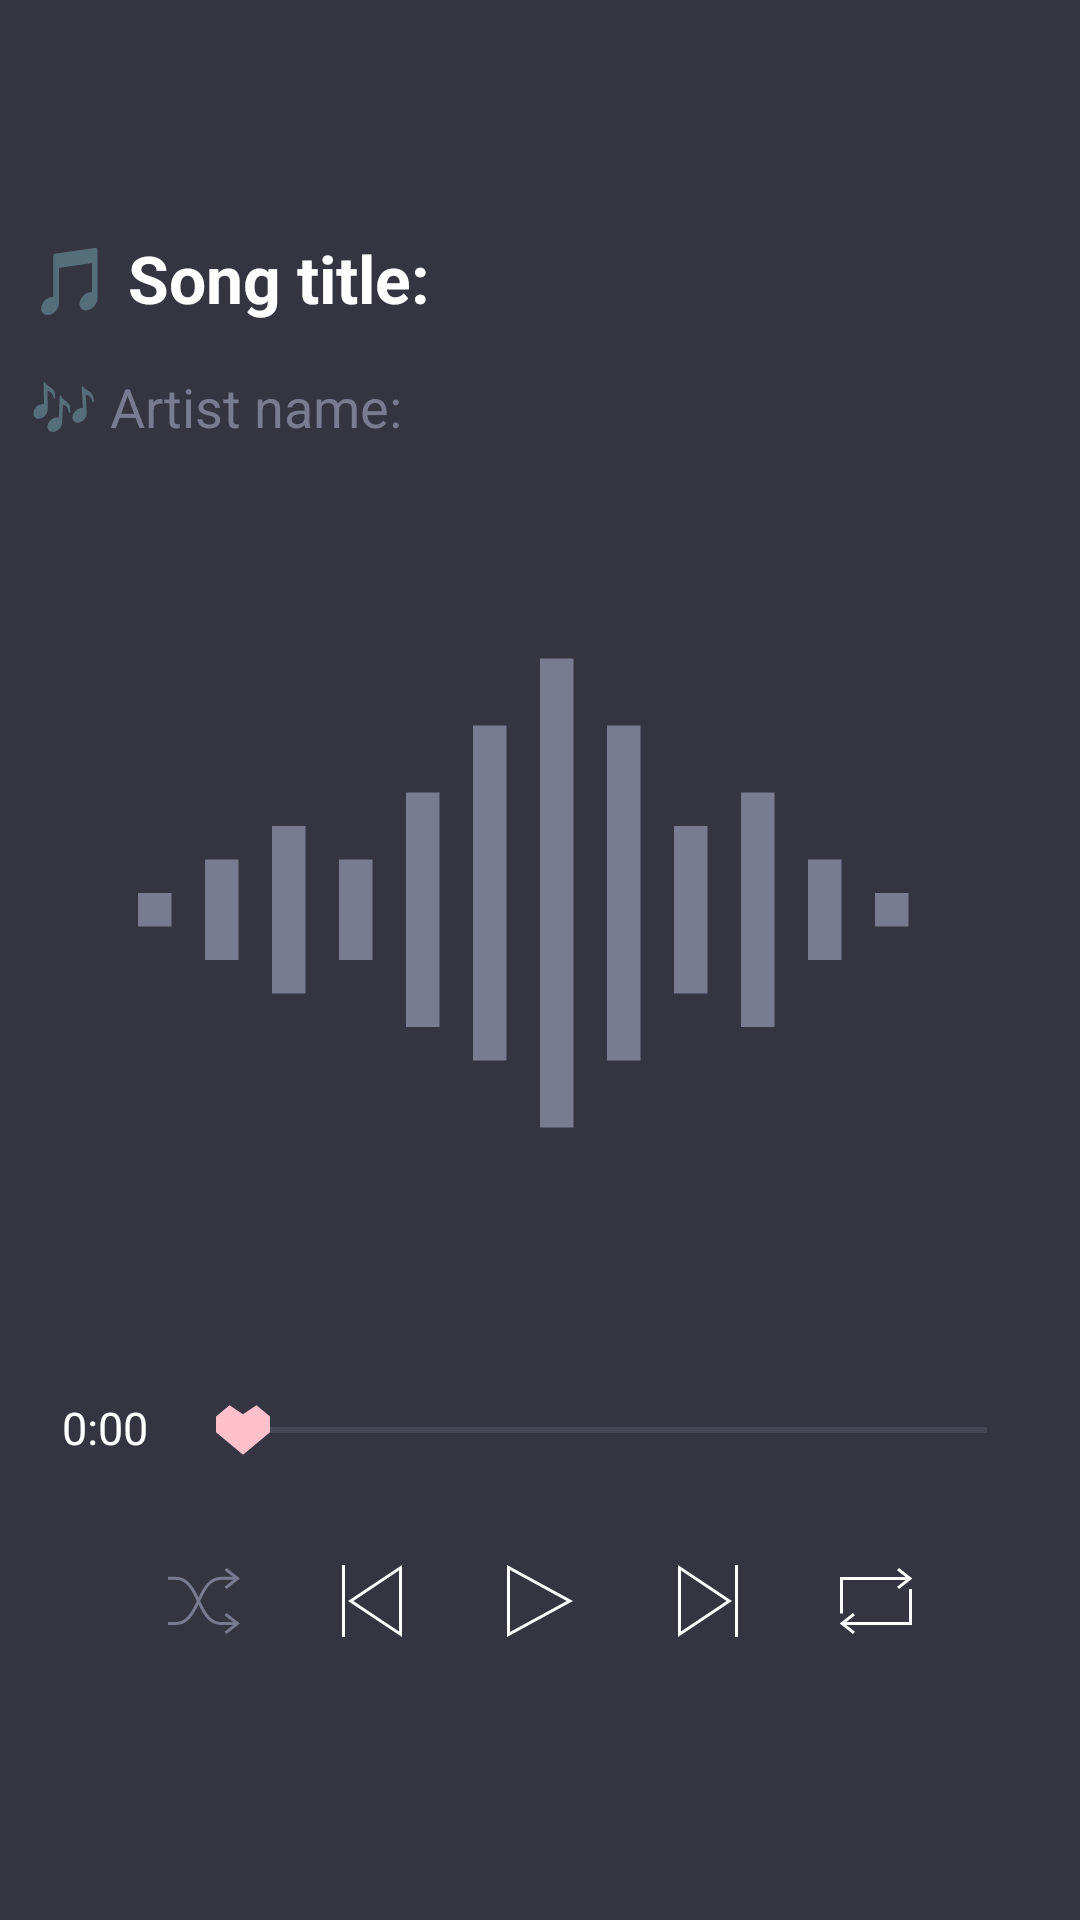

Where to tap for icons on this 1080×1920 app screen, as (x=x, y=y):
iconmonstr loop: (x=876, y=1601)
iconmonstr next: (x=708, y=1601)
iconmonstr play: (x=540, y=1601)
iconmonstr previous: (x=372, y=1601)
iconmonstr random: (x=204, y=1601)
